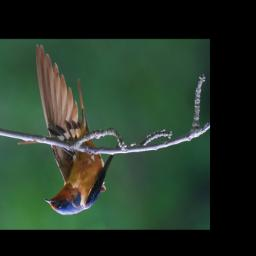Swallow: (33, 44, 120, 217)
